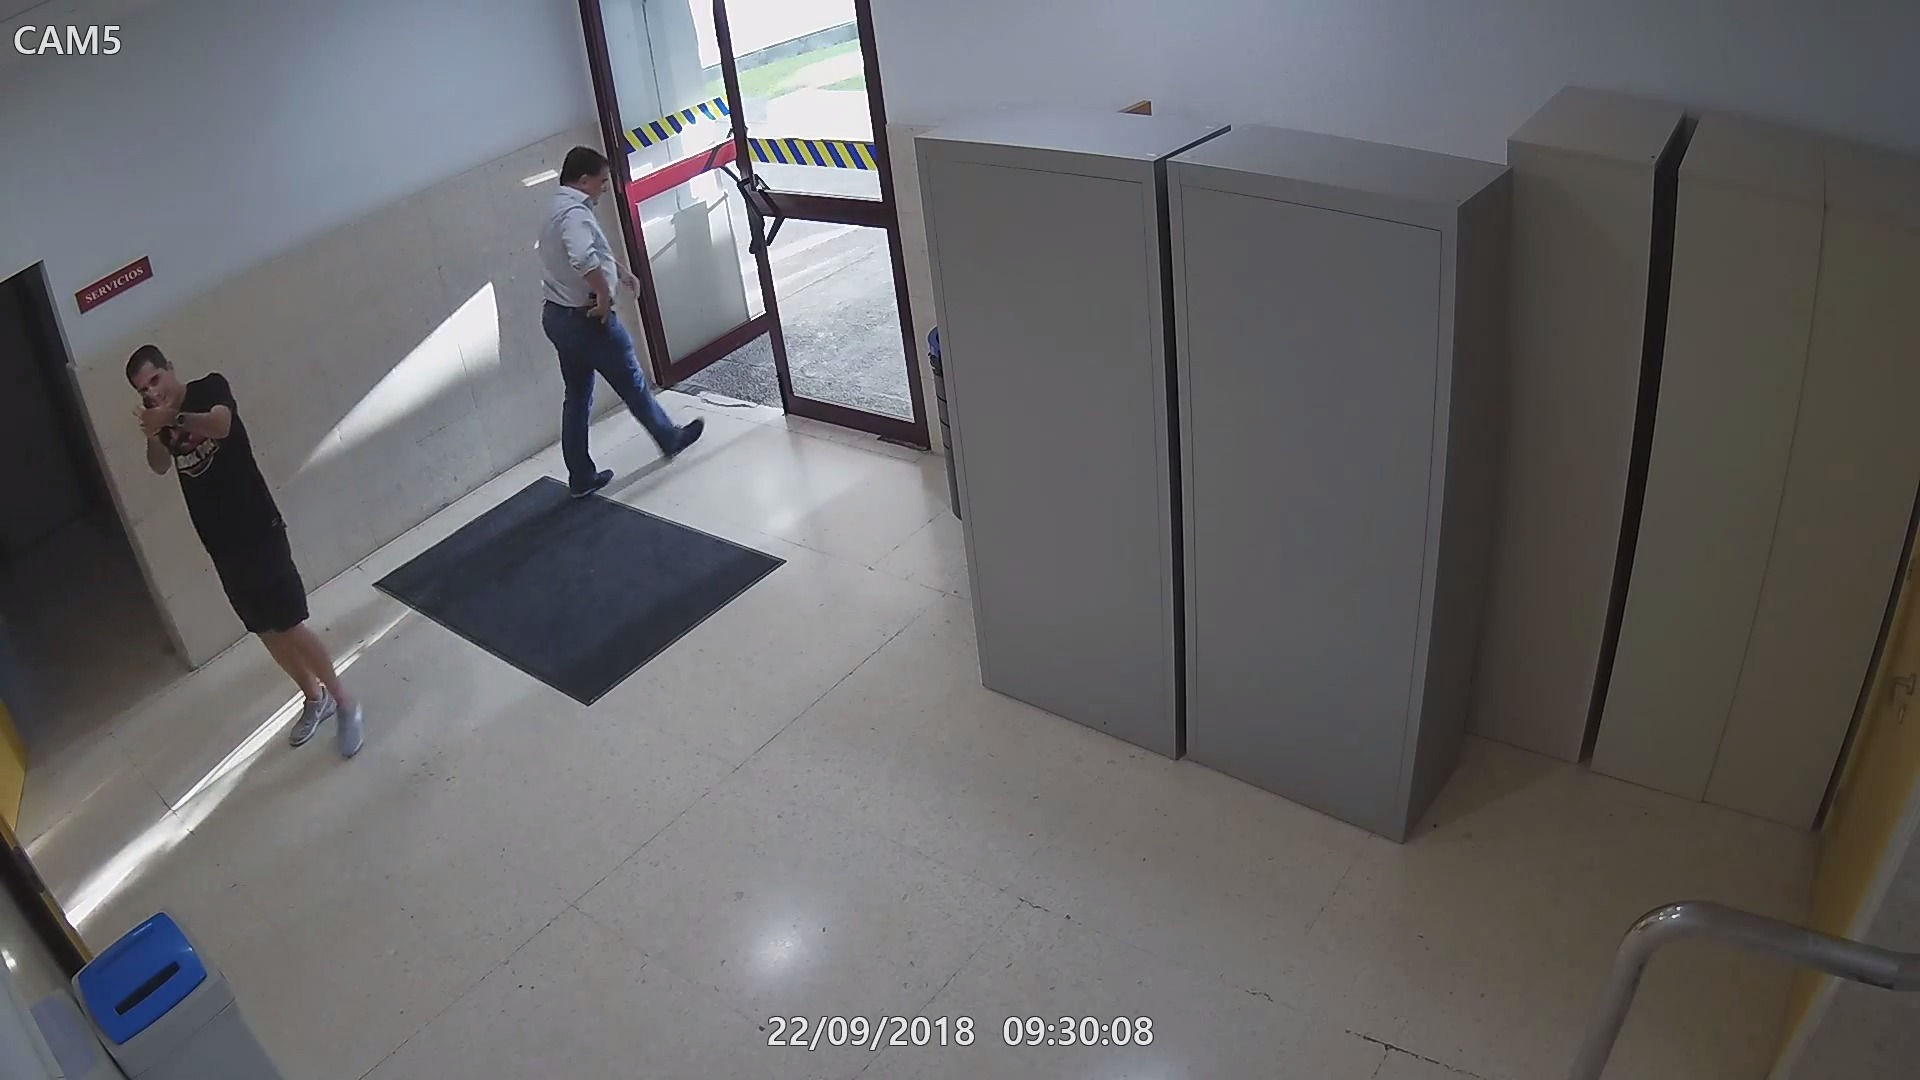Handgun: (132, 392, 171, 436), (588, 291, 618, 326)
